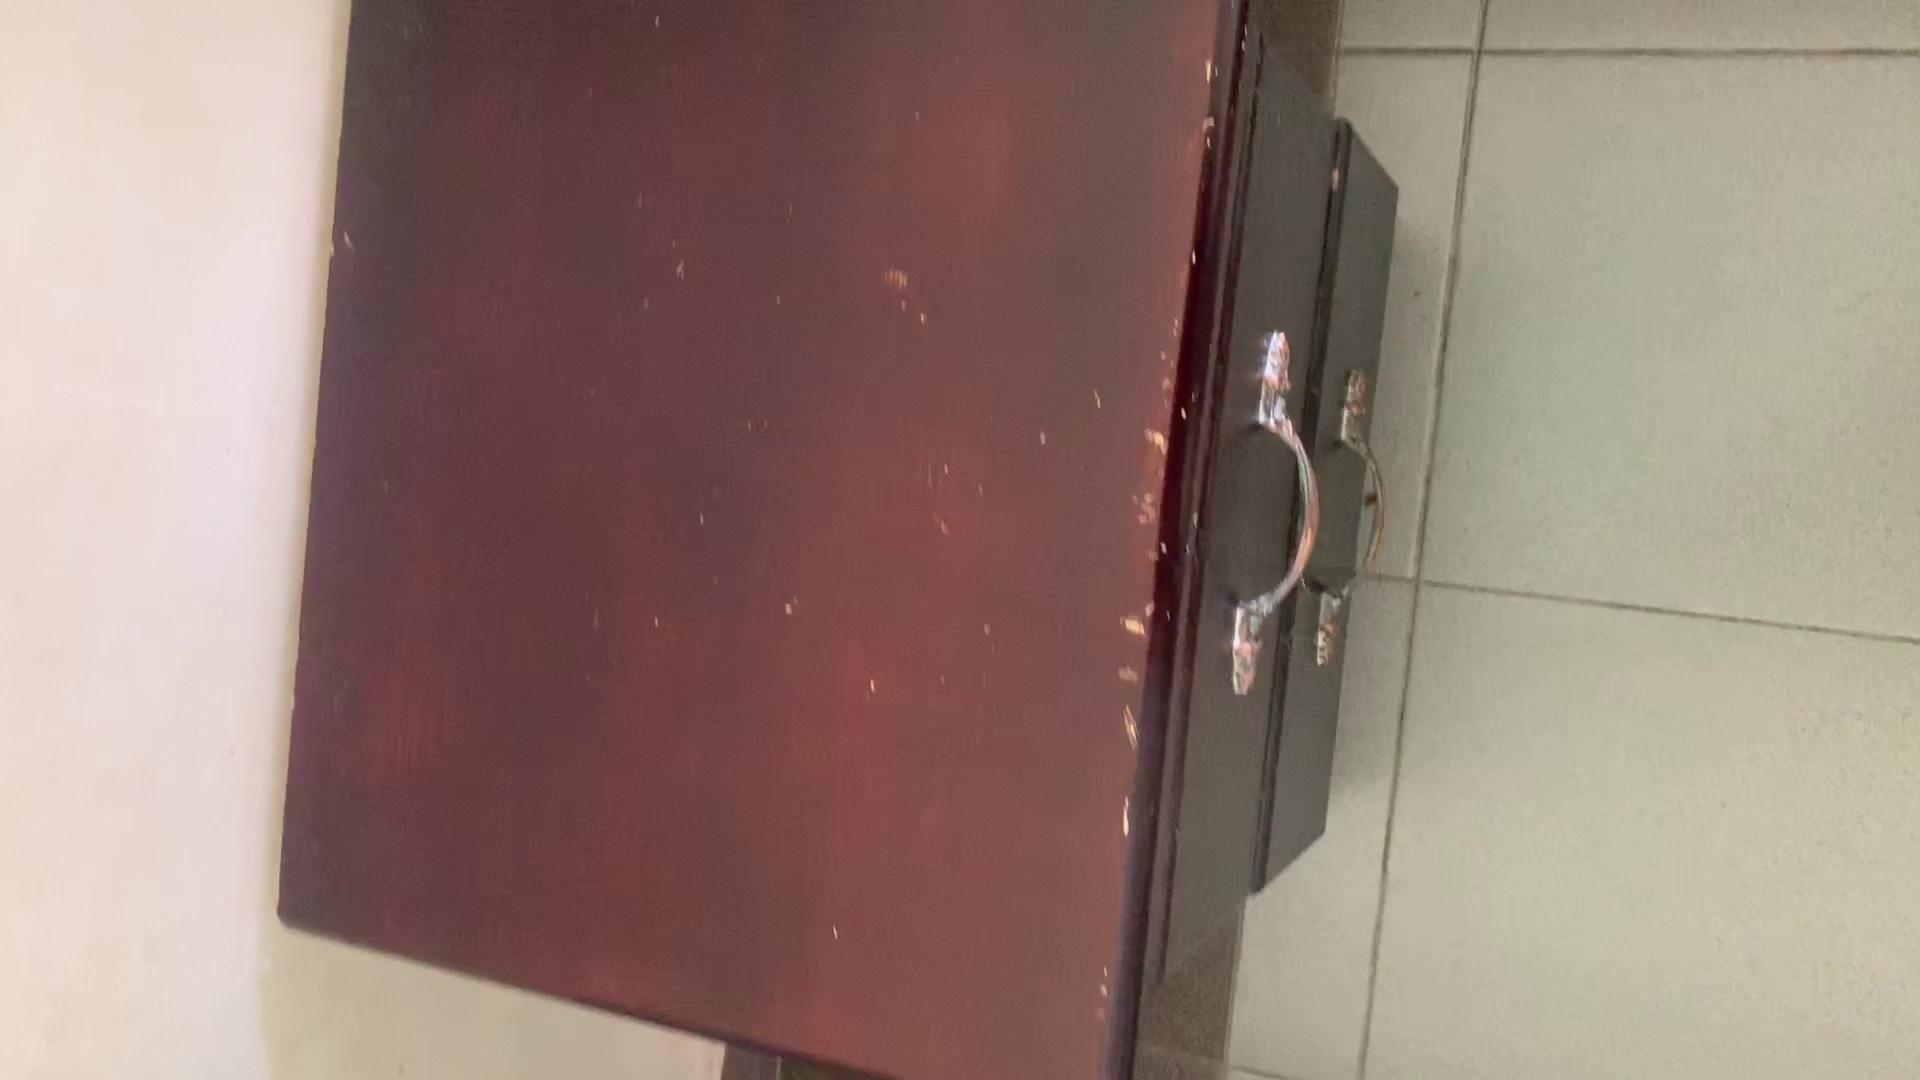cabinet_door: (1204, 107, 1307, 936), (1303, 104, 1403, 887)
handle: (1222, 319, 1328, 711), (1312, 347, 1394, 684)
